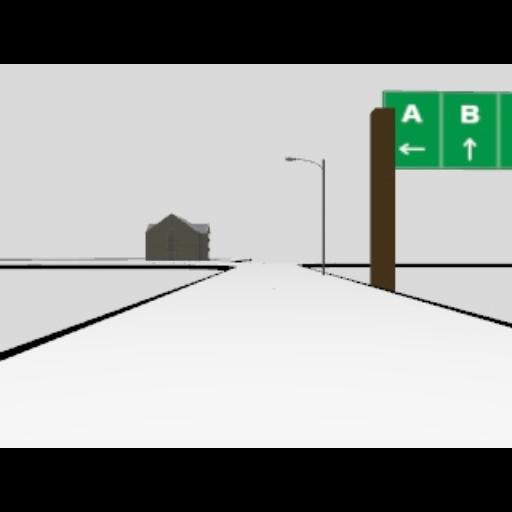A: (400, 102, 422, 124)
B: (460, 104, 478, 124)
Left: (397, 142, 427, 156)
Straight: (463, 136, 477, 160)
